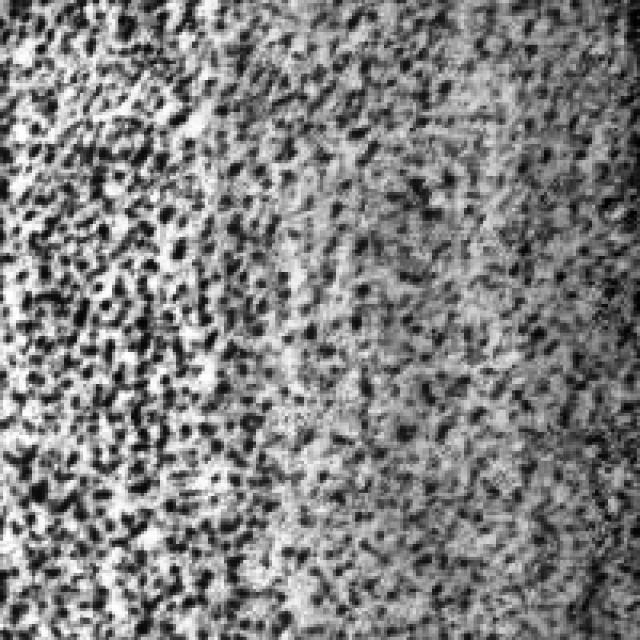Rolled_in_Scale: (0, 6, 621, 621)
